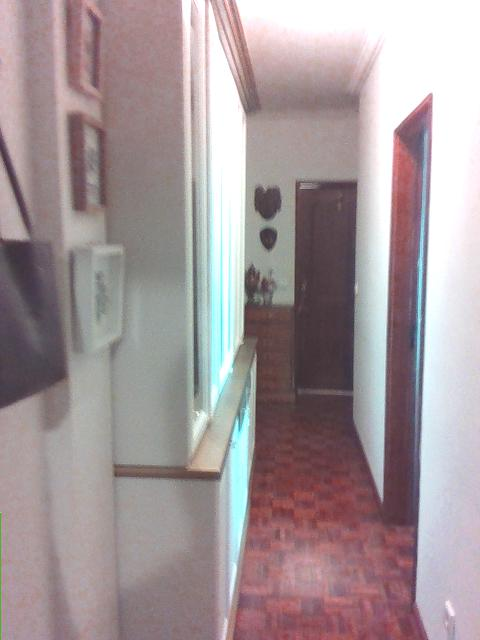closed_door: (292, 179, 356, 395)
